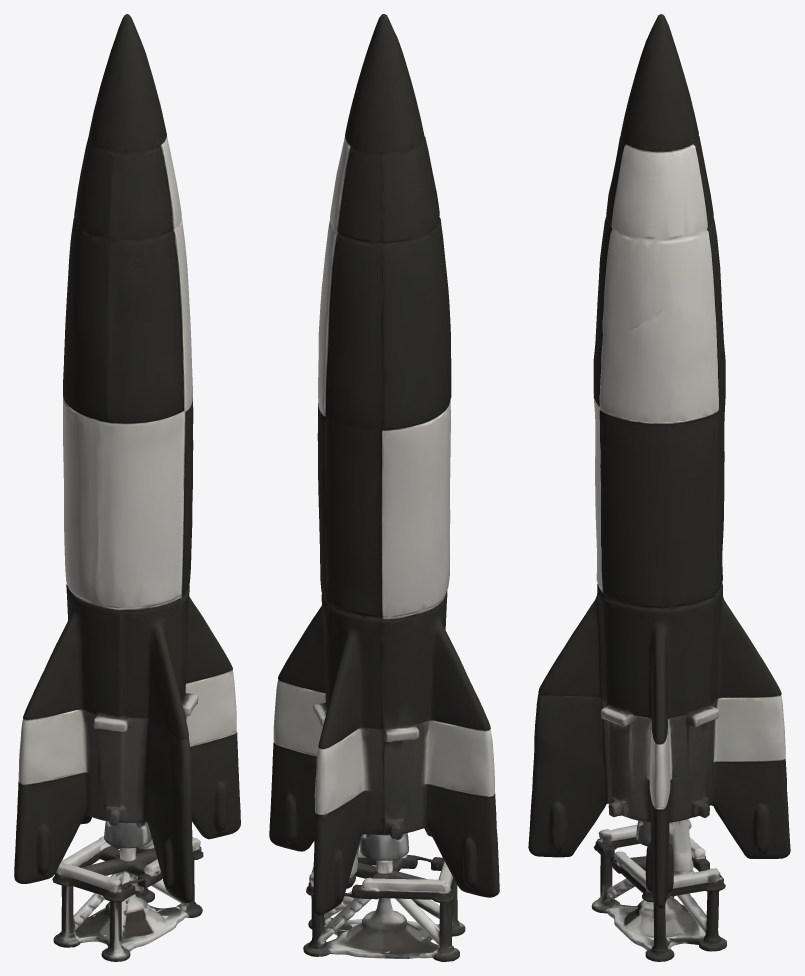
3 renders of one model, left to right at view 1: azimuth 30°, elevation 25°; view 2: azimuth 150°, elevation 25°; view 3: azimuth 270°, elevation 25°, orthographic.
Parts seen in each view (by area): view 1: tripo_node_0fbc8d2f-2544-4bba-a1bf-0a2c9eead8e9; view 2: tripo_node_0fbc8d2f-2544-4bba-a1bf-0a2c9eead8e9; view 3: tripo_node_0fbc8d2f-2544-4bba-a1bf-0a2c9eead8e9.
Boxes of the visible parts, x1,y1,x2,y2 form: tripo_node_0fbc8d2f-2544-4bba-a1bf-0a2c9eead8e9: (14, 14, 240, 961); tripo_node_0fbc8d2f-2544-4bba-a1bf-0a2c9eead8e9: (269, 14, 499, 961); tripo_node_0fbc8d2f-2544-4bba-a1bf-0a2c9eead8e9: (528, 14, 790, 961).
Size of the model in its own units: 0.2533 by 0.9817 by 0.2554.
1 material, 1 textured.
